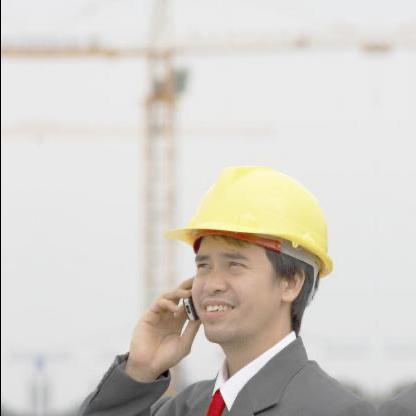Helmet: (160, 136, 350, 358)
